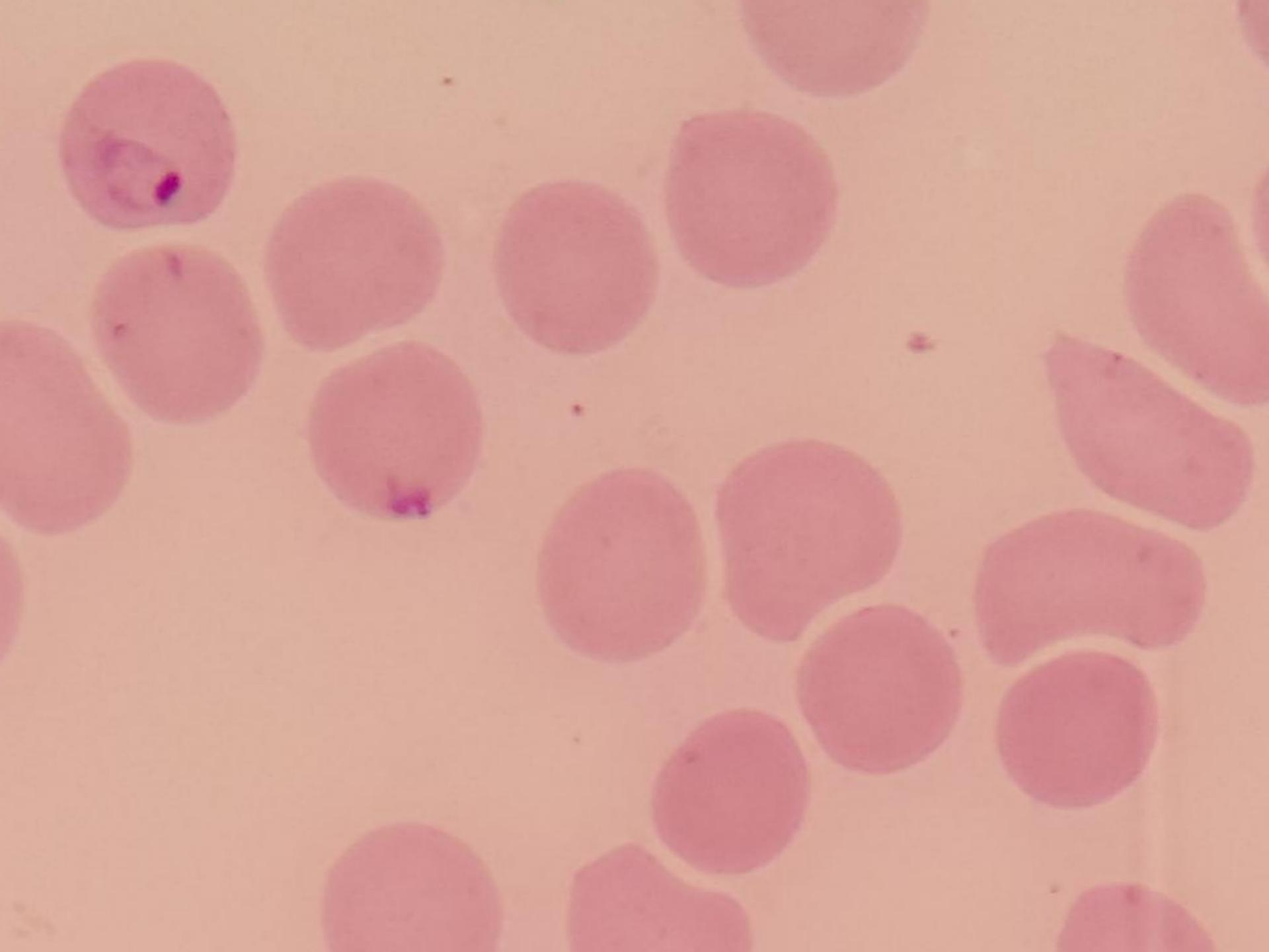Infected: (59, 58, 239, 240)
Uninfected: (1029, 329, 1253, 539), (707, 432, 897, 638), (965, 509, 1204, 671), (542, 461, 708, 670), (311, 338, 479, 532), (657, 111, 834, 294), (273, 175, 445, 357), (485, 179, 658, 359), (643, 703, 814, 883), (1124, 192, 1269, 403), (0, 309, 137, 531), (95, 241, 260, 419), (804, 598, 961, 780), (996, 644, 1151, 811), (311, 822, 501, 952), (755, 0, 936, 91)
